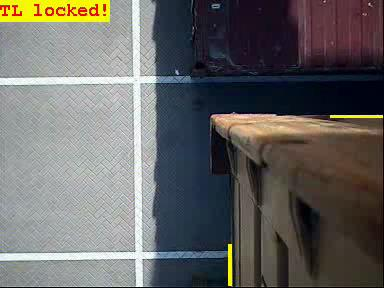groundmarker_2: (91, 147, 160, 192)
